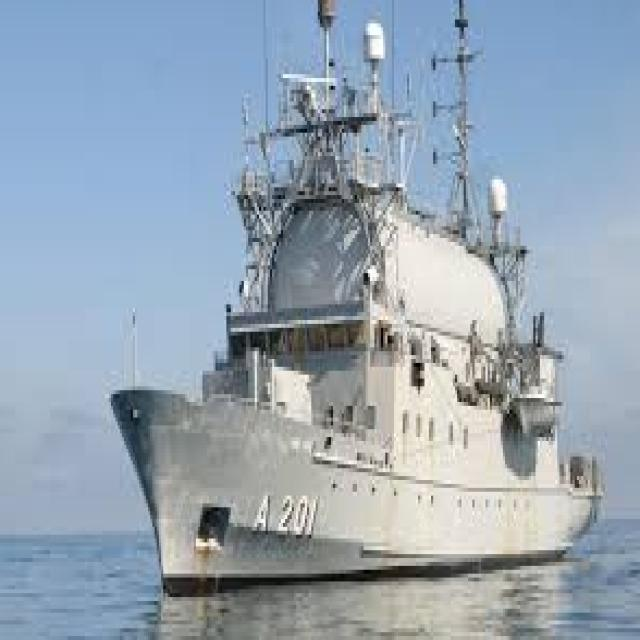navalvessels: (105, 22, 602, 610)
